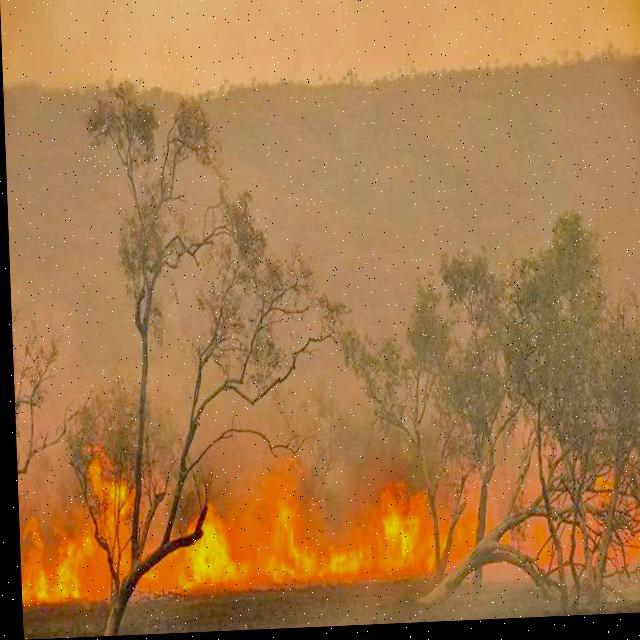Fire: (14, 423, 480, 612)
